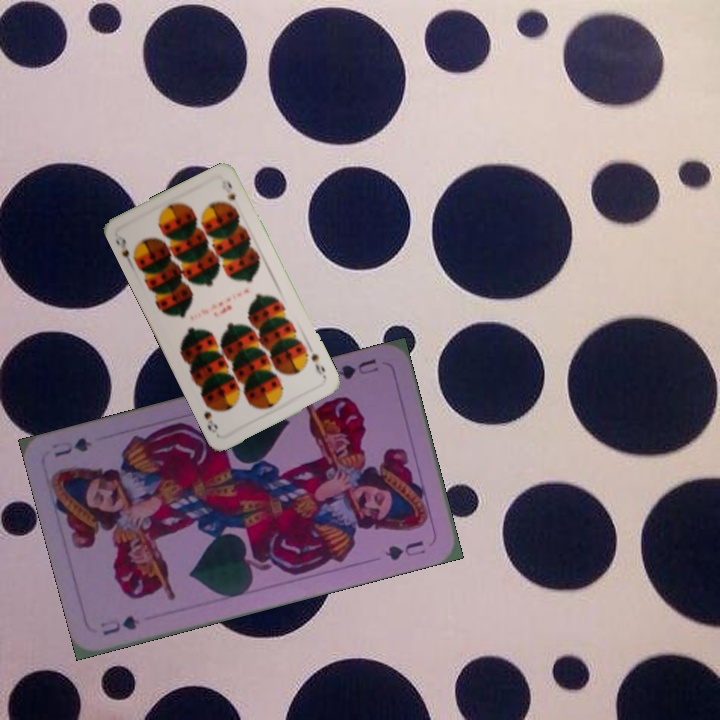GU: (333, 354, 381, 382), (96, 611, 142, 638)
S9: (112, 231, 139, 269), (307, 348, 329, 382)
